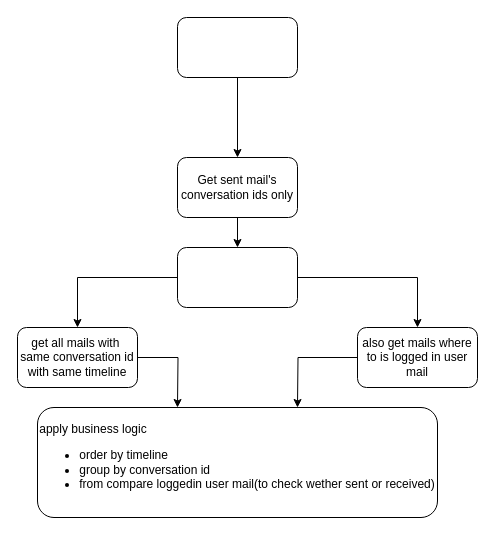
The diagram is 495 pixels wide and 535 high, and some of its shapes have lost their labels. The centre of each missing label's shape, as x and y in pixels:
create a set of it: the point at 237,277
Time line wise get mails with sent and received in thread format: the point at 237,47
